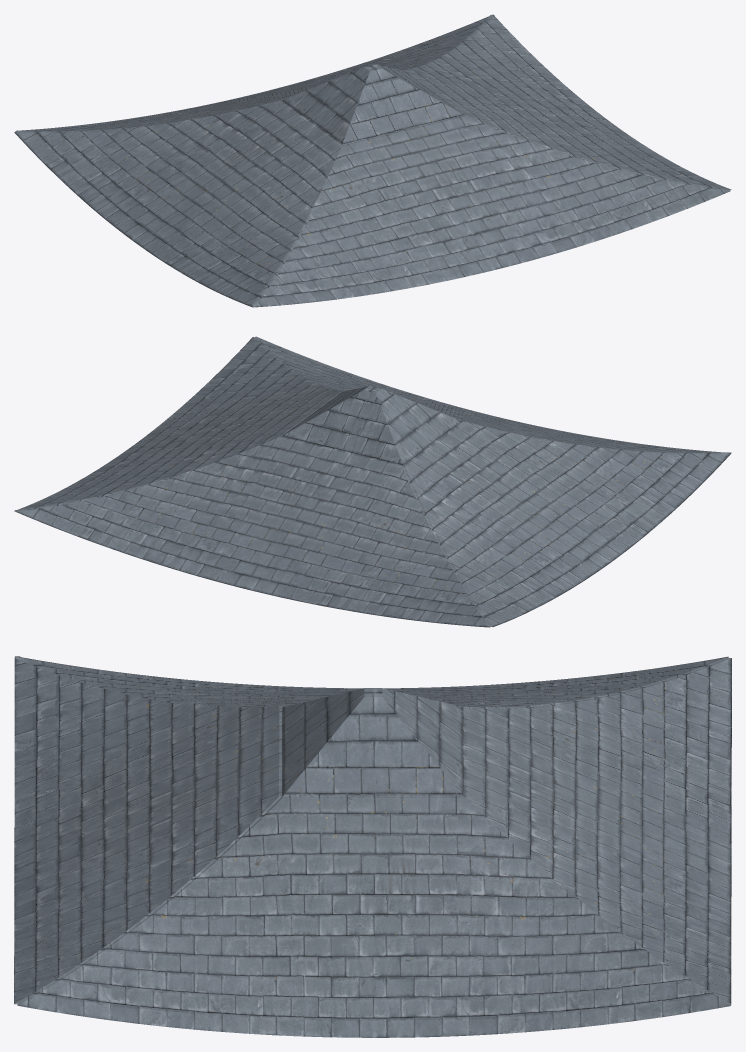
File: Ceiling 2.FBX
3 views of the same model, one above another, from view 1: azimuth 30°, elevation 25°; view 2: azimuth 150°, elevation 25°; view 3: azimuth 270°, elevation 25° (orthographic). The views are drawn at different scales.
Visible parts, largest first — view 1: ceiling 2; view 2: ceiling 2; view 3: ceiling 2.
Boxes of the visible parts, bbox=[...] form: ceiling 2: bbox=[14, 14, 731, 307]; ceiling 2: bbox=[14, 336, 731, 627]; ceiling 2: bbox=[14, 656, 731, 1037].
Bounding box in the file's own units: 709 × 161 × 615.
Materials: 1 (1 with a texture image).
